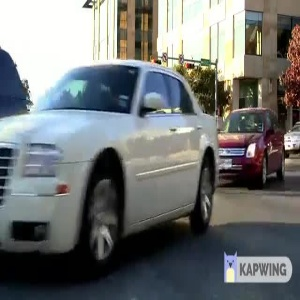car: (1, 65, 220, 240), (217, 101, 289, 185)
